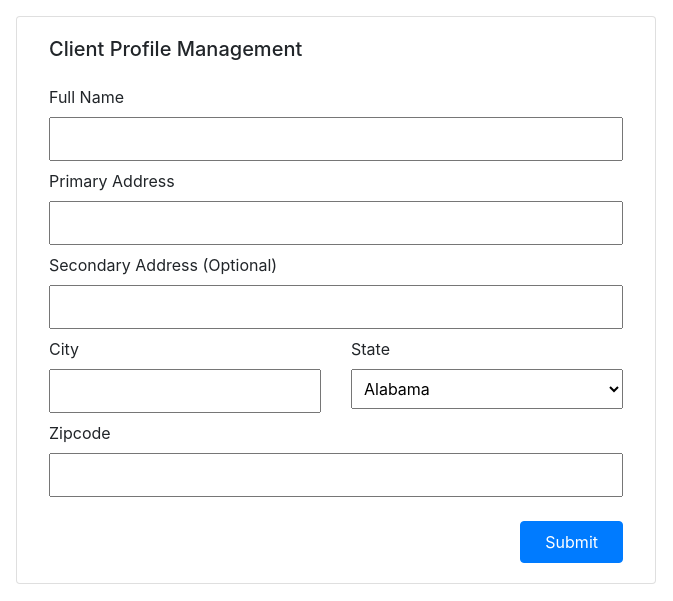
Scenario: Profile component › Full Name - exceed string input
In the field labelled "Full Name": (336, 139) [49,117,623,161], type "abcdefghijklmnopqrstuvwxyqabcdefghijklmnopqrstuvwxyqabcdefghijklmnopqrstuvwxyqabcdefghijklmnopqrstuvwxyq"
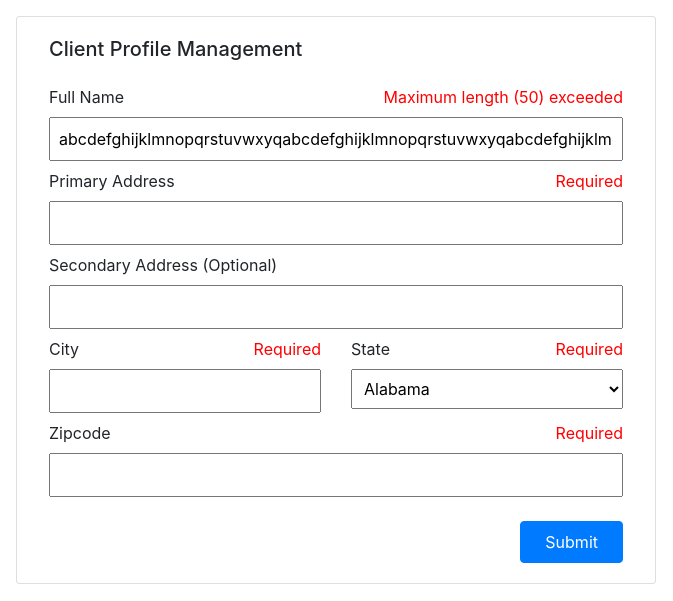
expect the text "Maximum length (50) exceeded" is shown: met, box [384,85,623,109]
